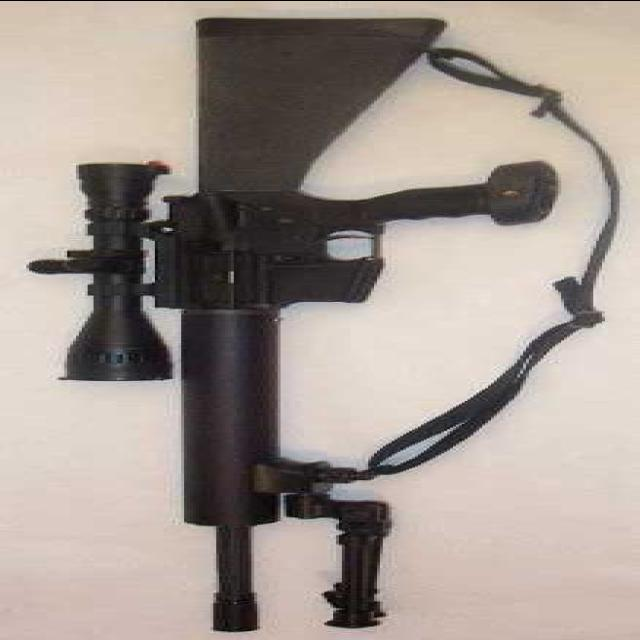heavyweapon: (34, 11, 580, 637)
